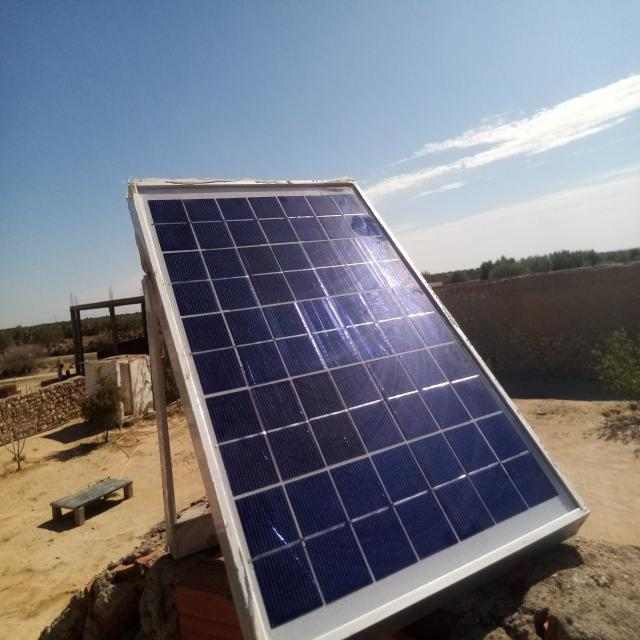no faulty: (128, 174, 588, 640)
